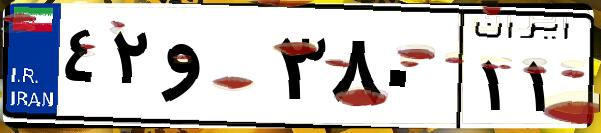0: (385, 28, 445, 110)
1: (475, 38, 525, 113), (525, 38, 570, 115)
2: (110, 28, 158, 98)
3: (270, 28, 330, 110)
4: (57, 26, 110, 100)
8: (330, 28, 385, 110)
و: (158, 20, 270, 120)
